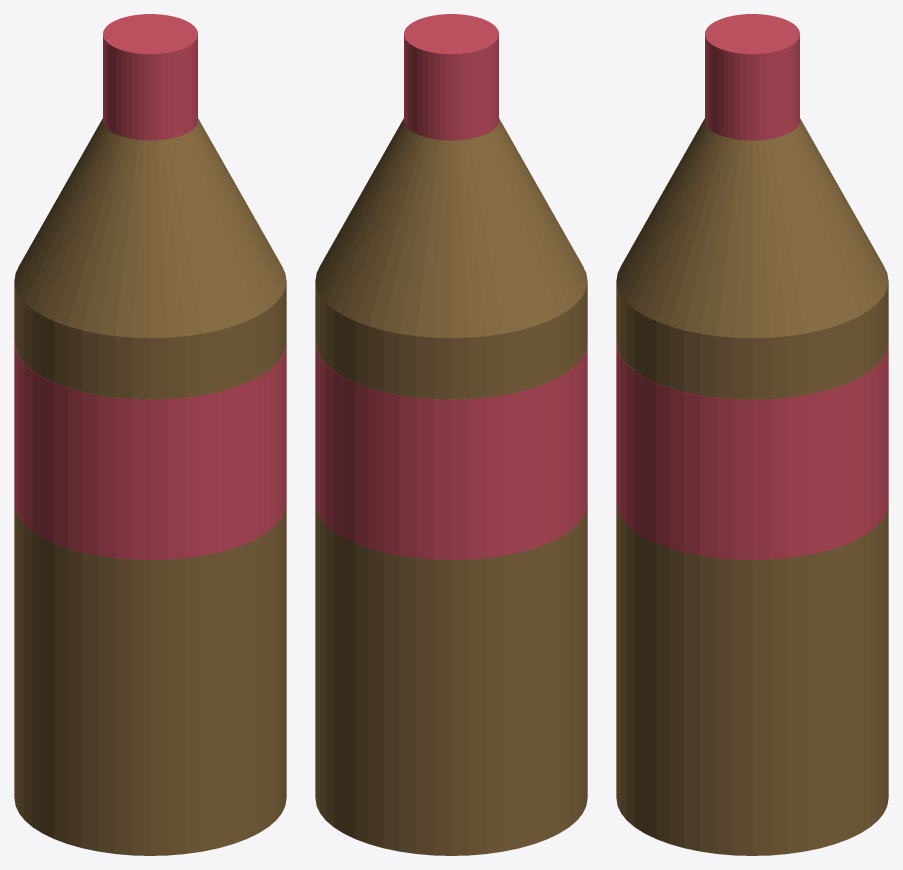
Rendered from coke cola.glb.
3 views of the same model, side by side, from view 1: azimuth 30°, elevation 25°; view 2: azimuth 150°, elevation 25°; view 3: azimuth 270°, elevation 25° (orthographic).
Parts seen in each view (by area): view 1: Mesh_Mesh_head_geo.001_lambert2SG.001; view 2: Mesh_Mesh_head_geo.001_lambert2SG.001; view 3: Mesh_Mesh_head_geo.001_lambert2SG.001.
Boxes of the visible parts, x1,y1,x2,y2 form: Mesh_Mesh_head_geo.001_lambert2SG.001: [14, 14, 286, 855]; Mesh_Mesh_head_geo.001_lambert2SG.001: [315, 14, 587, 855]; Mesh_Mesh_head_geo.001_lambert2SG.001: [616, 14, 888, 855].
Bounding box in the file's own units: 0.02 × 0.062 × 0.02.
